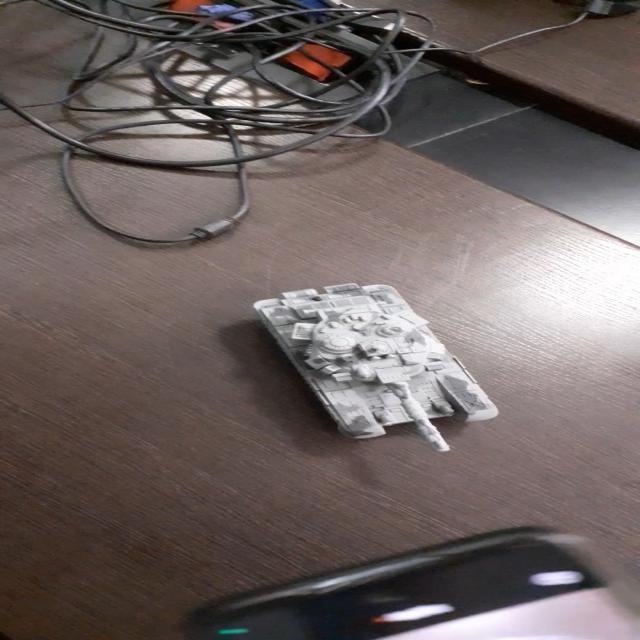tank: (241, 275, 512, 462)
